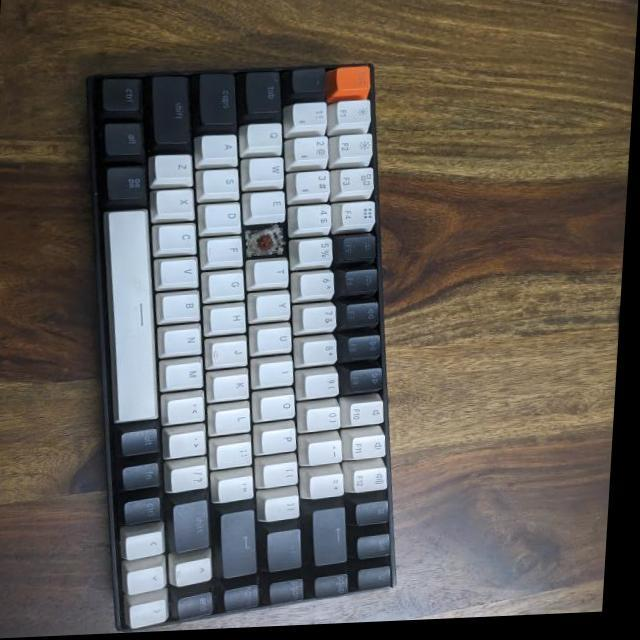key-switch: (251, 227, 288, 257)
